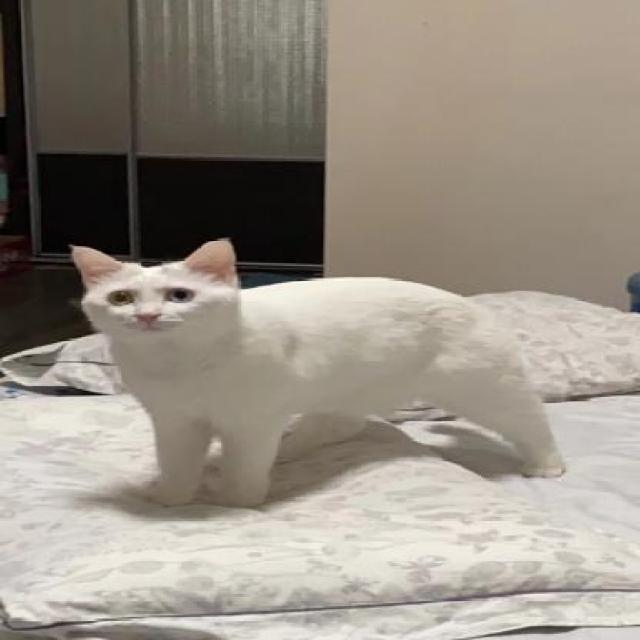cat-face: (47, 235, 248, 340)
